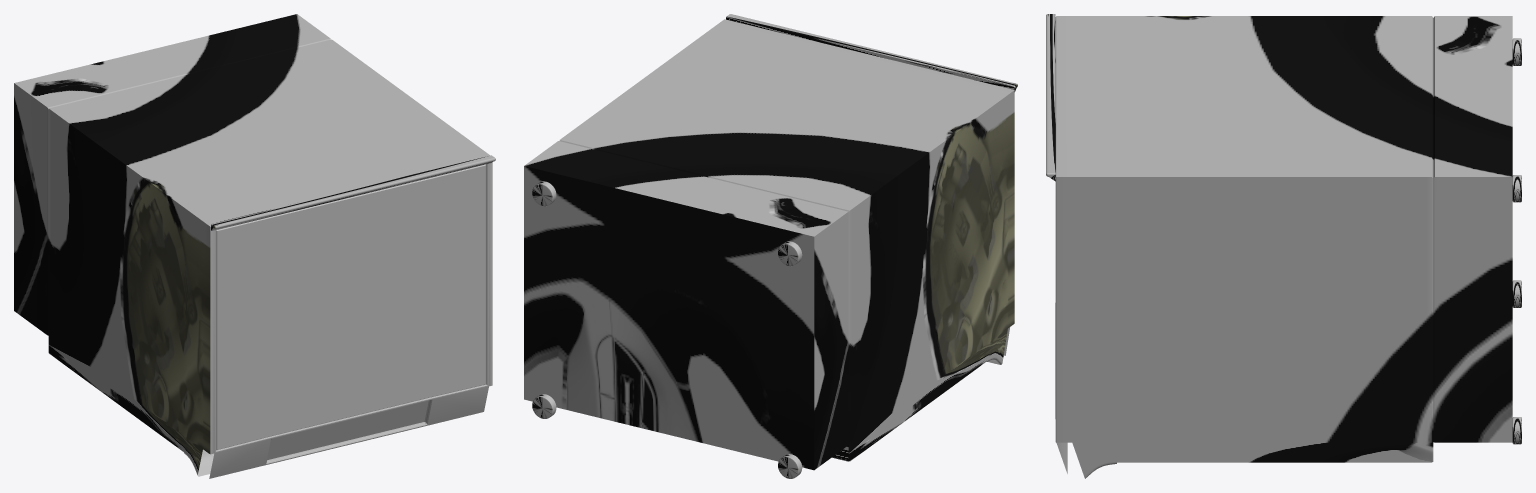
The model's file is Range.obj.
3 renders of one model, left to right at view 1: azimuth 30°, elevation 25°; view 2: azimuth 150°, elevation 25°; view 3: azimuth 270°, elevation 25°, orthographic. The views are drawn at different scales.
Bounding box in the file's own units: 0.762 × 0.6749 × 0.9516.
